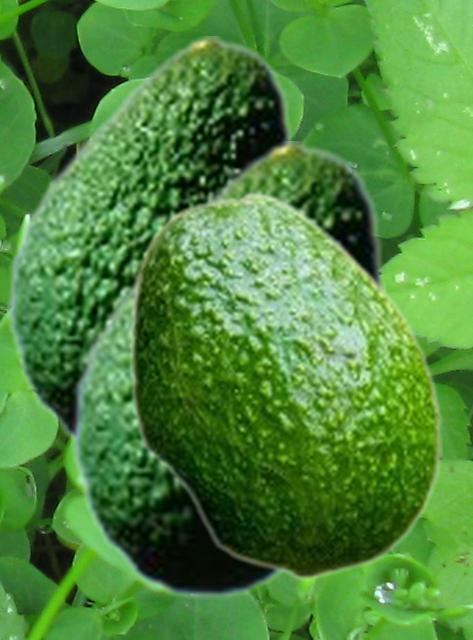avocado: (71, 141, 384, 599), (127, 190, 441, 579), (7, 36, 294, 446)
